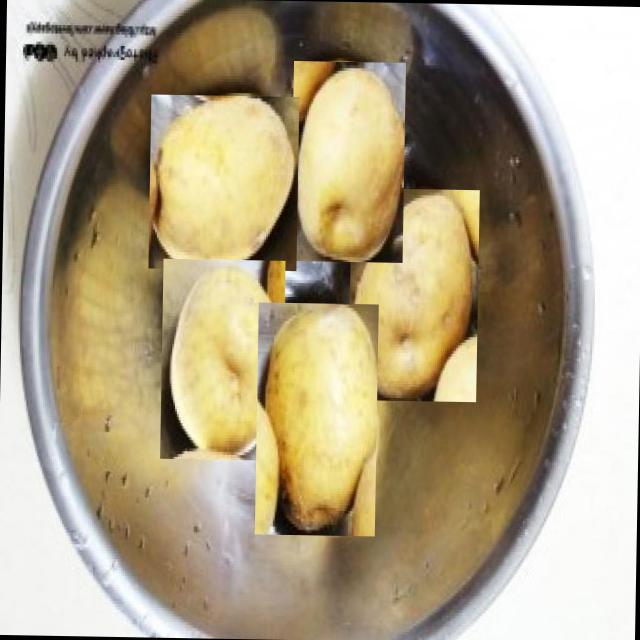Potato: (254, 301, 378, 535), (346, 187, 478, 400), (147, 93, 298, 270), (159, 258, 284, 460), (290, 60, 404, 262)
